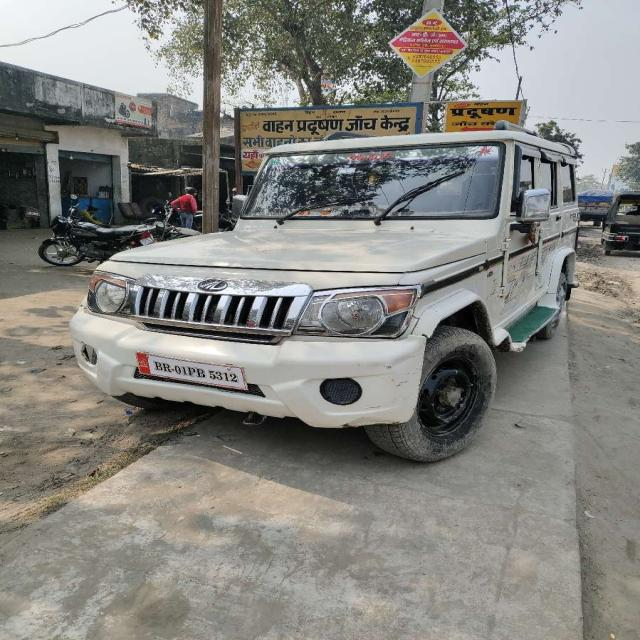light_vehicle: (65, 140, 591, 410)
